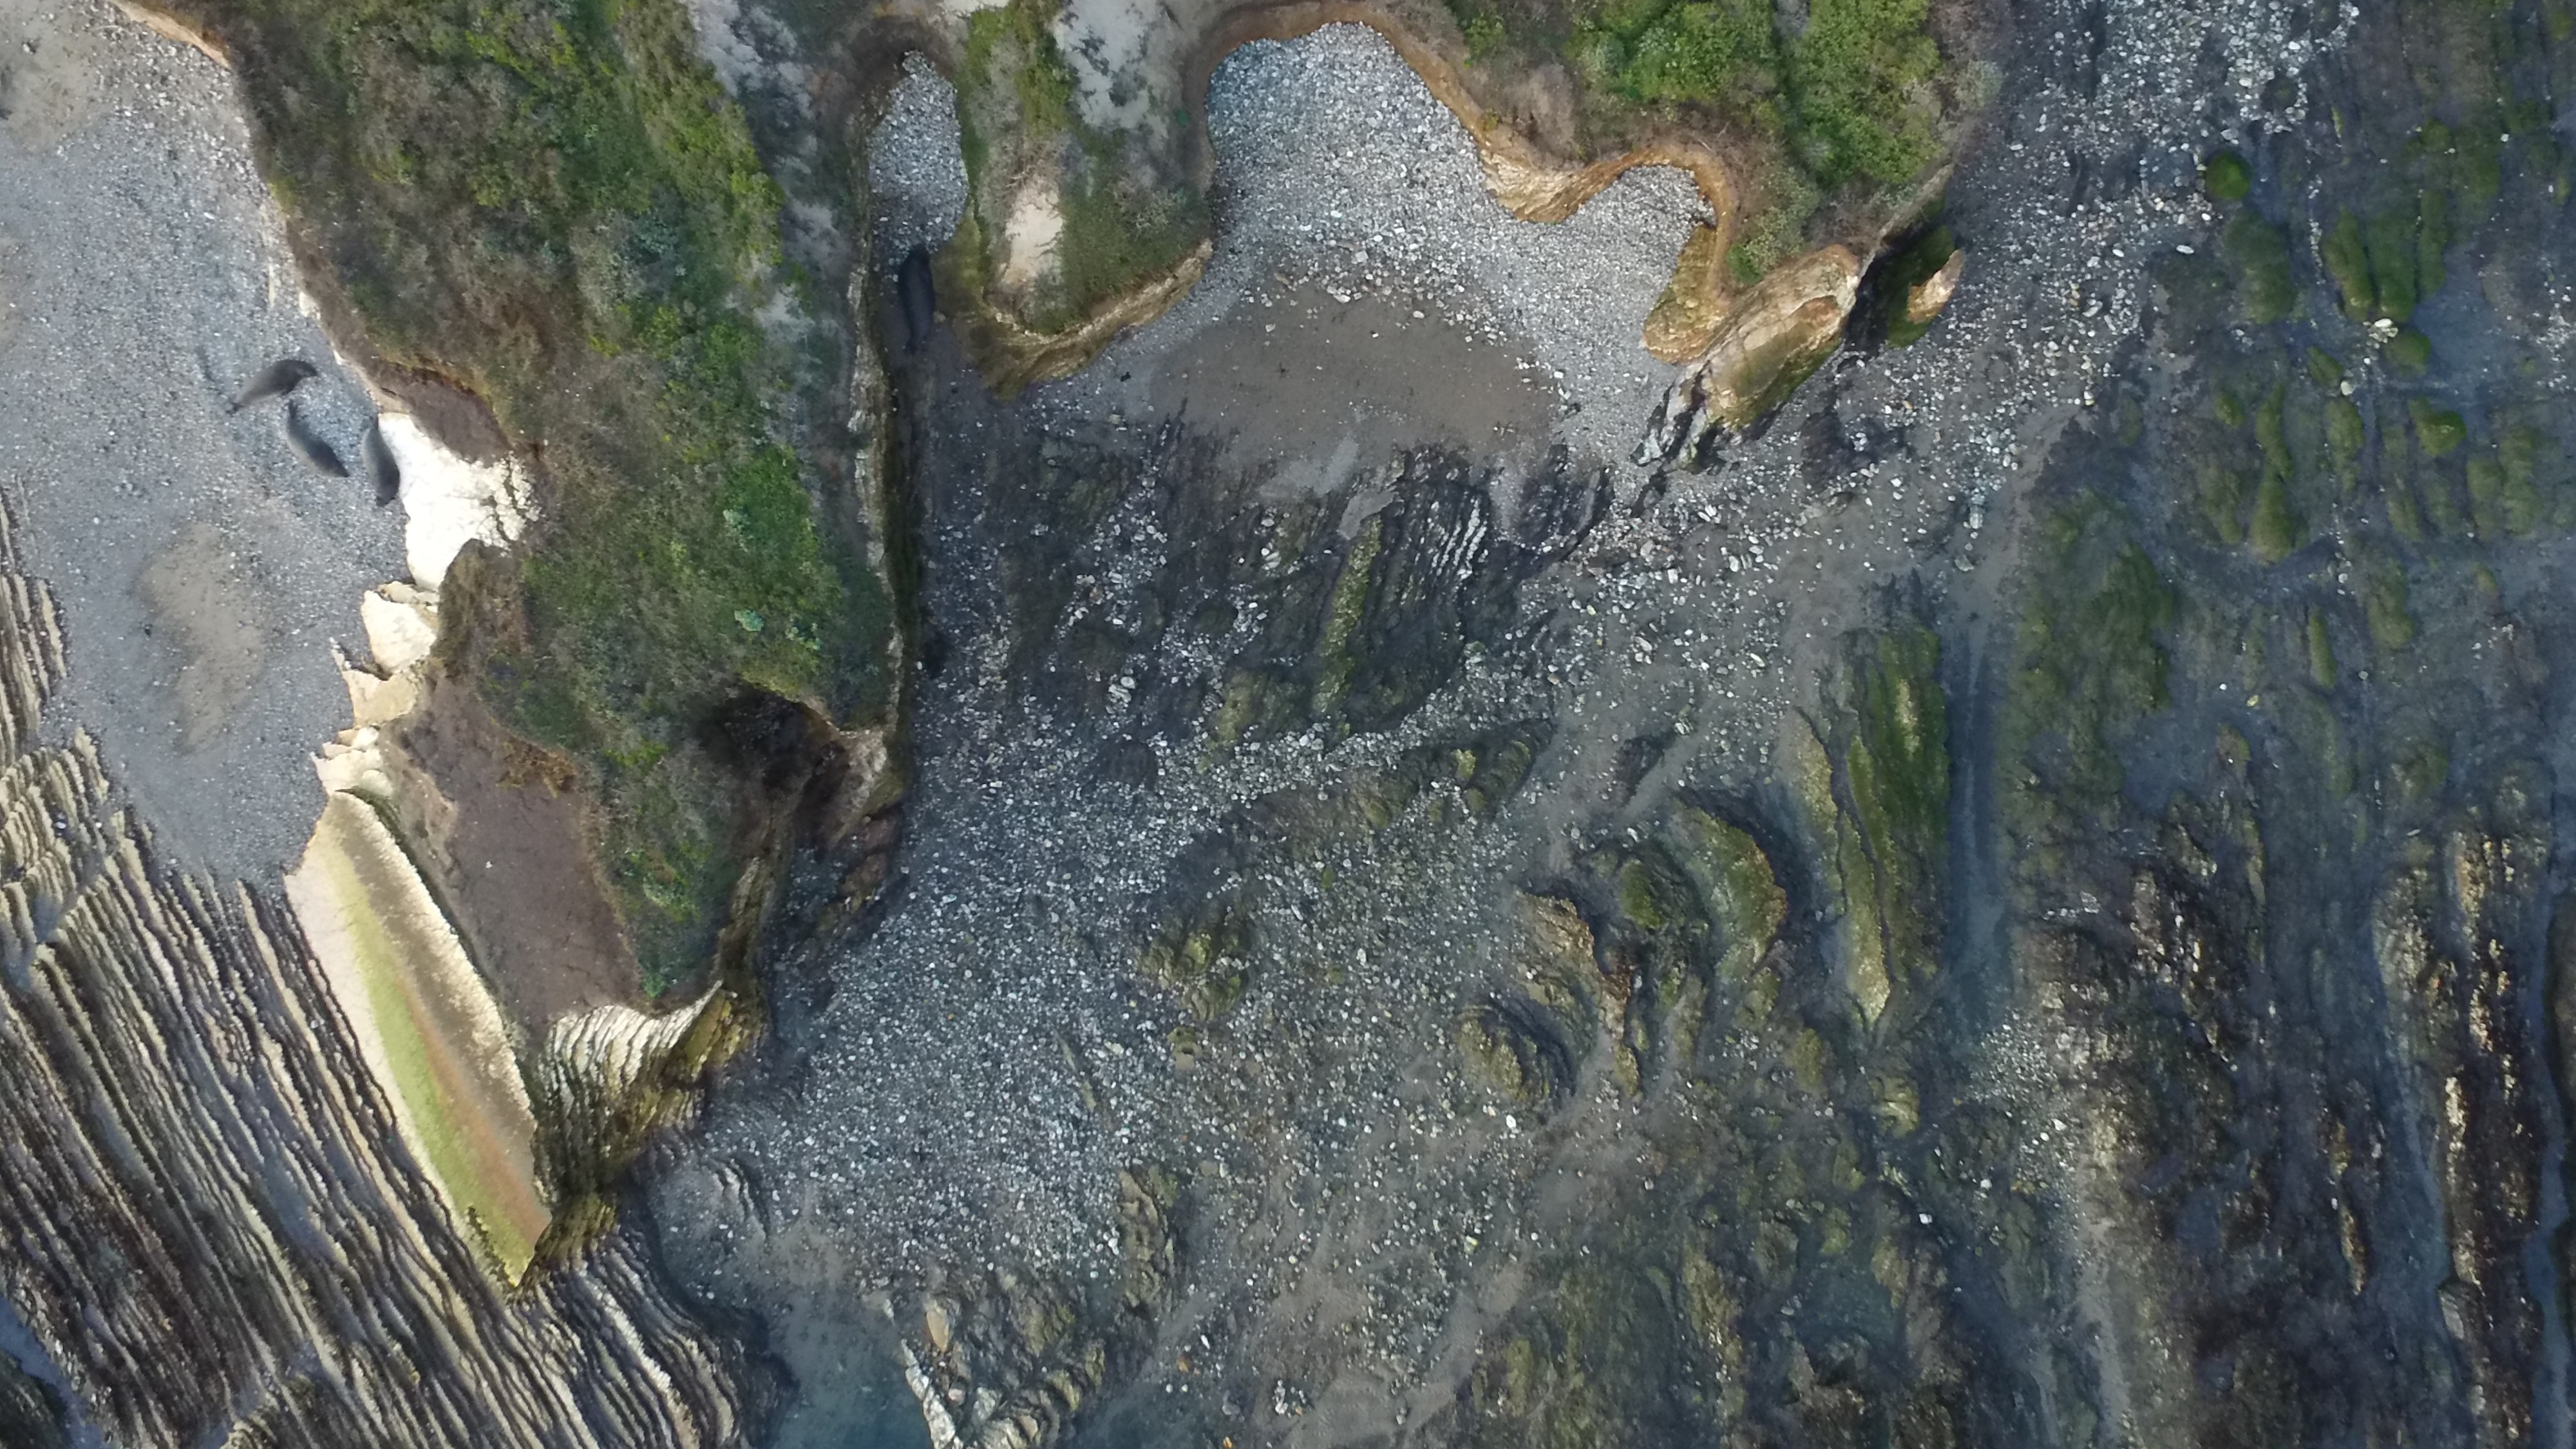male juvenile / female juvenile / adult female: (226, 357, 320, 418), (287, 402, 350, 479), (899, 244, 934, 354), (361, 414, 402, 508)
